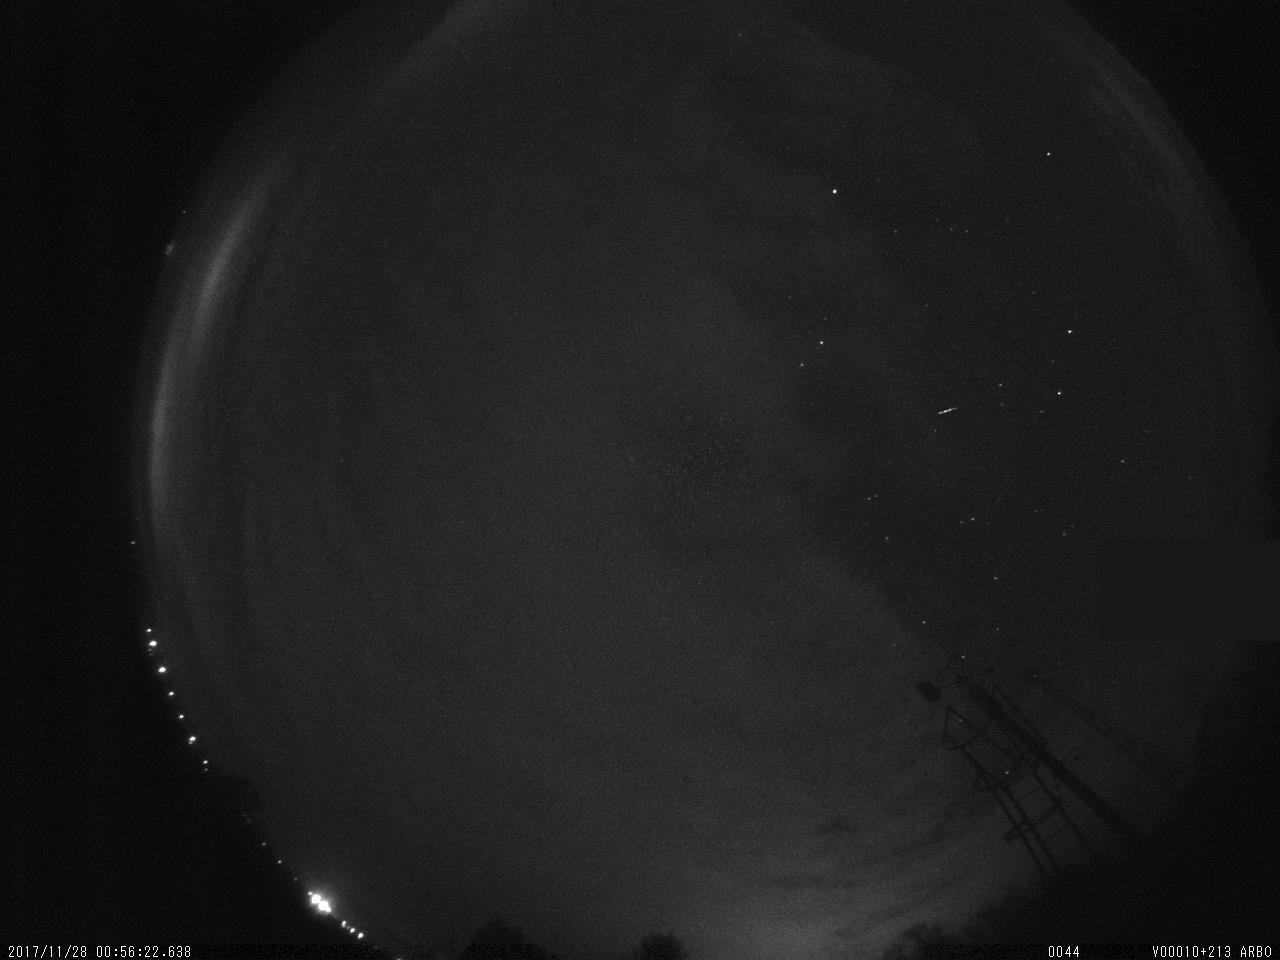meteor: (925, 399, 975, 425)
